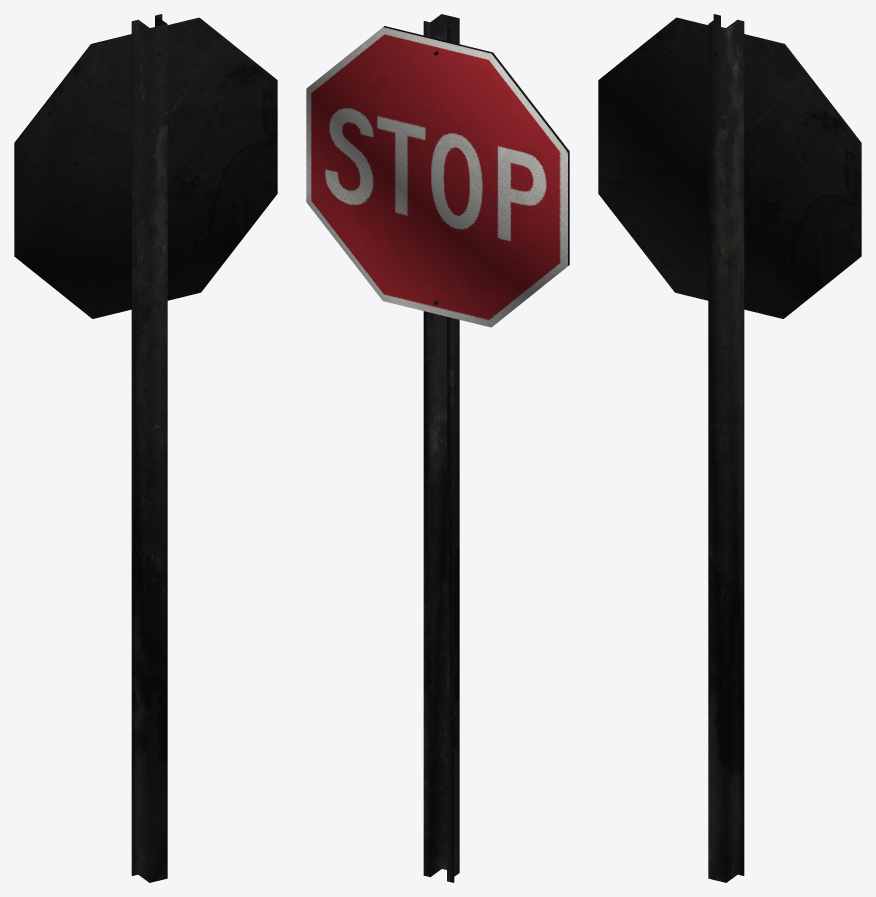
Rendered from Stop.obj.
The picture shows the model from 3 angles, left to right: view 1: azimuth 30°, elevation 25°; view 2: azimuth 150°, elevation 25°; view 3: azimuth 330°, elevation 25°; orthographic projection.
Visible parts, largest first — view 1: Object_3; view 2: Object_3; view 3: Object_3.
Part boxes in pixels (box(x1,y1,x2,y2)): Object_3: box(14, 14, 277, 882); Object_3: box(306, 14, 569, 882); Object_3: box(598, 14, 861, 882).
Bounding box in the file's own units: 0.6575 × 2.05 × 0.0703.
1 material, 1 textured.
